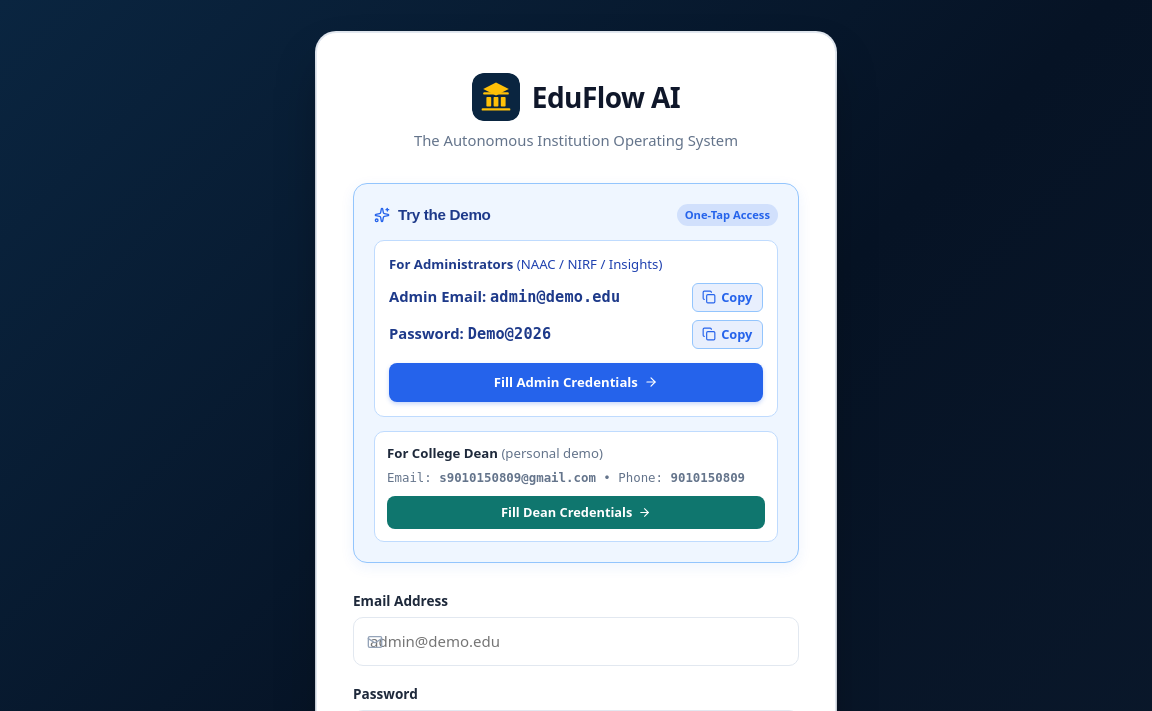
LoginPage Component › Network error shows "Cannot reach server" message, not "Failed to fetch"
Click the button "Fill Admin Credentials" at (576, 382), box [389, 363, 763, 402]
(page scrolled)
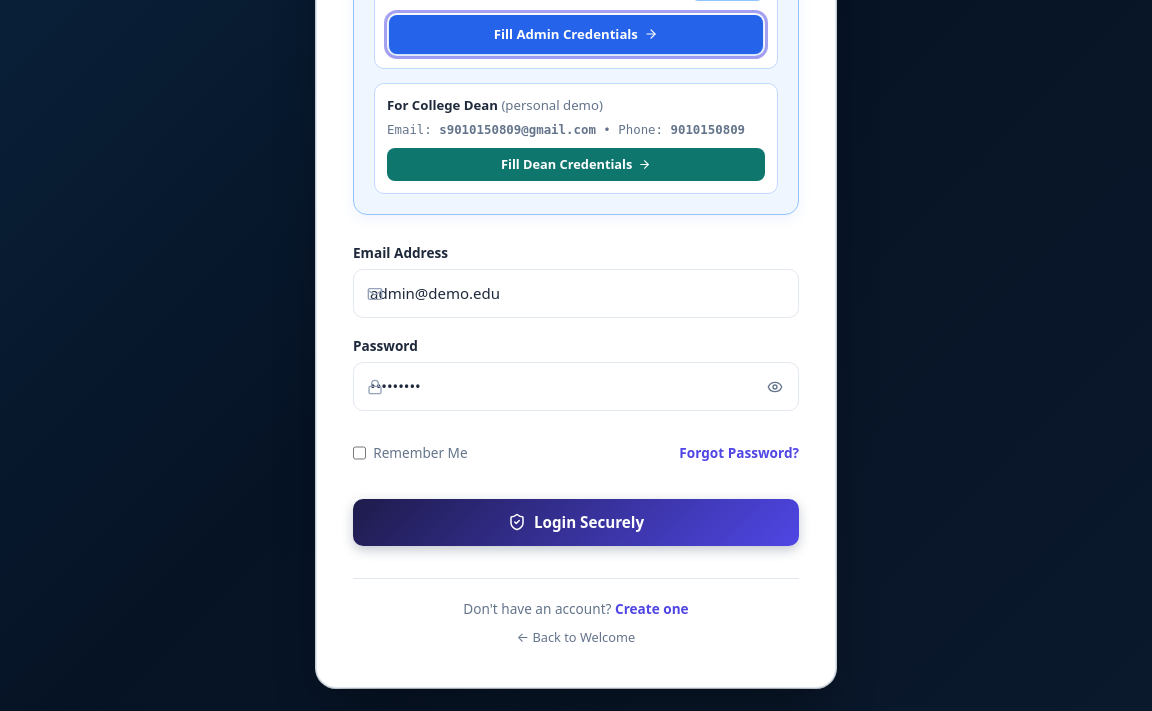
Click the button "Login Securely" at (576, 522), box [353, 499, 799, 546]
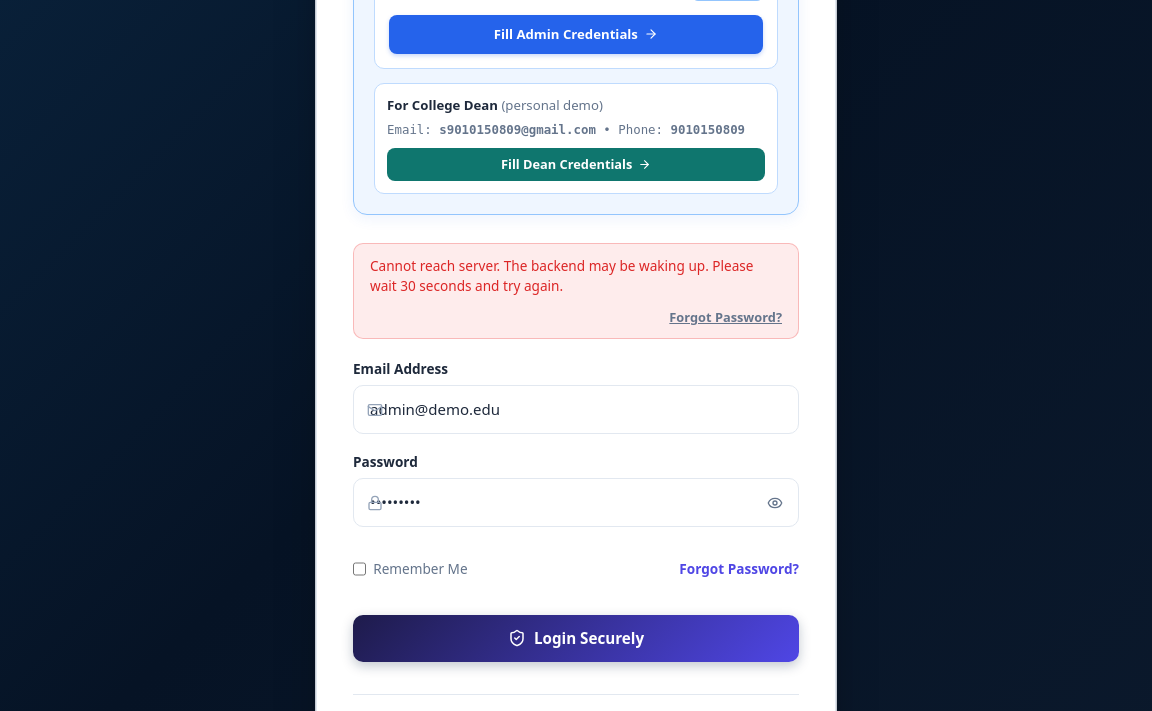
Expected: the message does not show "failed to fetch", [353, 244, 799, 340]
Expected: the message shows "Cannot reach server", [370, 256, 754, 295]
